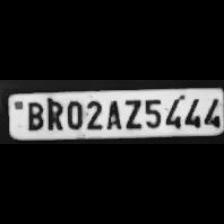0: (64, 98, 82, 130)
2: (83, 97, 103, 130)
4: (200, 95, 222, 127), (181, 94, 201, 128), (164, 94, 182, 128)
5: (142, 96, 162, 128)
A: (103, 97, 121, 129)
B: (22, 99, 44, 131)
R: (43, 97, 63, 132)
Z: (121, 96, 141, 130)
